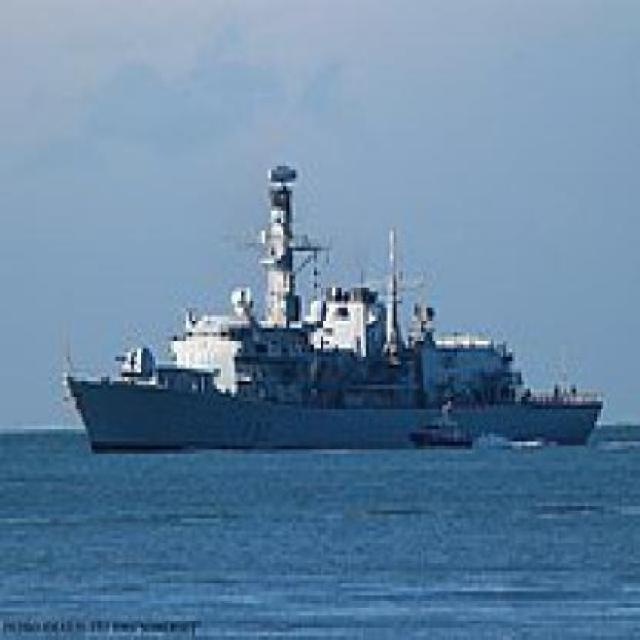warship2: (59, 147, 611, 467)
